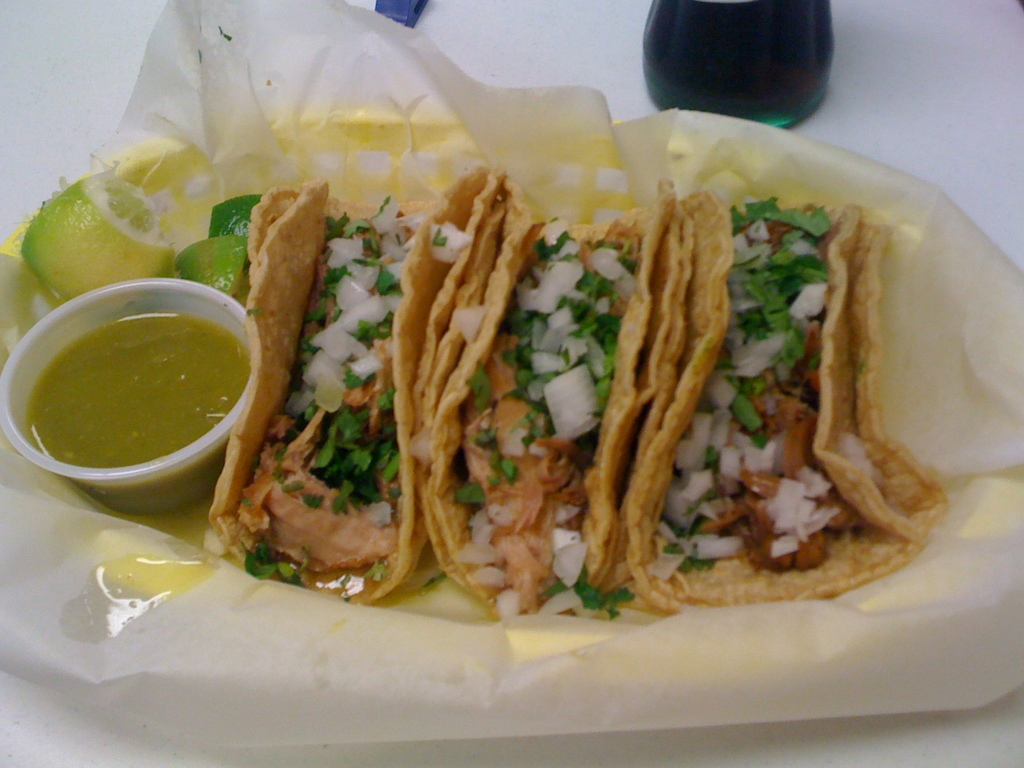taco: (194, 179, 494, 614), (624, 189, 956, 580), (431, 187, 670, 621)
